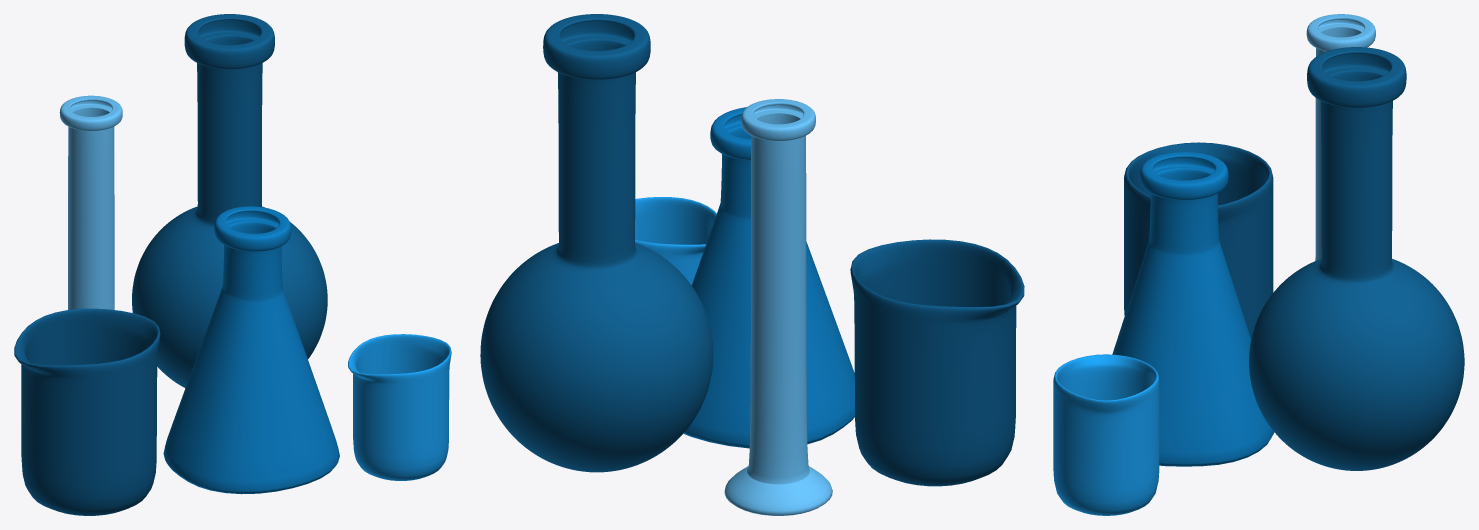
Rendered from Beaker_Group2.glb.
3 renders of one model, left to right at view 1: azimuth 30°, elevation 25°; view 2: azimuth 150°, elevation 25°; view 3: azimuth 270°, elevation 25°, orthographic. The views are drawn at different scales.
Parts seen in each view (by area): view 1: pCylinder1, pSphere1, pCylinder2, pCylinder3, pCylinder4; view 2: pSphere1, pCylinder2, pCylinder4, pCylinder1, pCylinder3; view 3: pSphere1, pCylinder1, pCylinder3, pCylinder2, pCylinder4.
Part boxes in pixels (x1,y1,x2,y2): pCylinder1: (163, 206, 339, 494); pSphere1: (132, 14, 327, 387); pCylinder2: (14, 308, 160, 515); pCylinder3: (348, 334, 451, 480); pCylinder4: (59, 95, 122, 309); pSphere1: (480, 14, 713, 472); pCylinder2: (850, 239, 1024, 486); pCylinder4: (724, 99, 832, 515); pCylinder1: (683, 107, 854, 448); pCylinder3: (635, 197, 716, 285); pSphere1: (1249, 47, 1464, 470); pCylinder1: (1112, 152, 1274, 466); pCylinder3: (1053, 354, 1159, 515); pCylinder2: (1124, 142, 1273, 338); pCylinder4: (1306, 14, 1375, 260).
Size of the model in its own units: 1.64 by 1.49 by 1.37.
